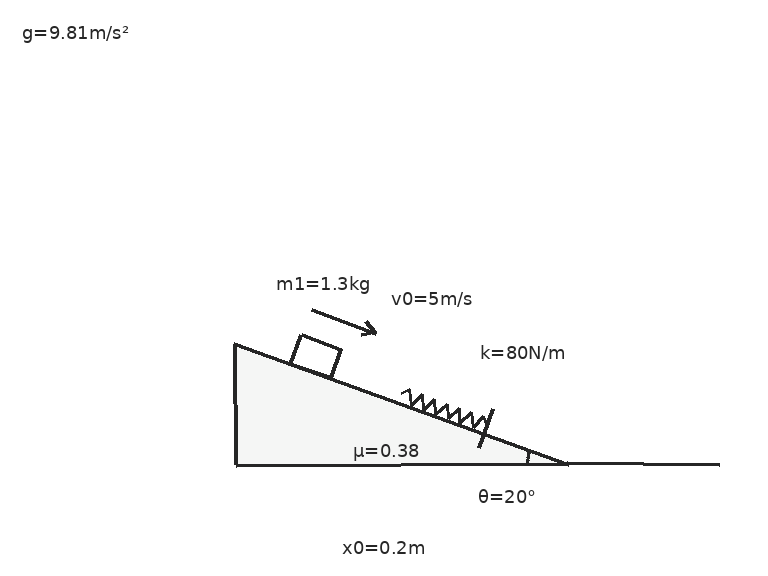block: (288, 333, 342, 380)
ramp: (233, 341, 569, 466)
spring: (399, 388, 489, 429)
